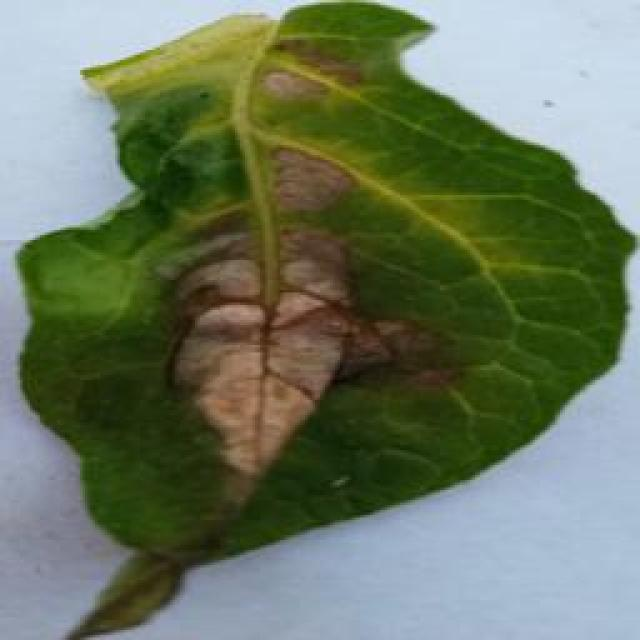Potato_Late_Blight: (13, 7, 625, 636)
